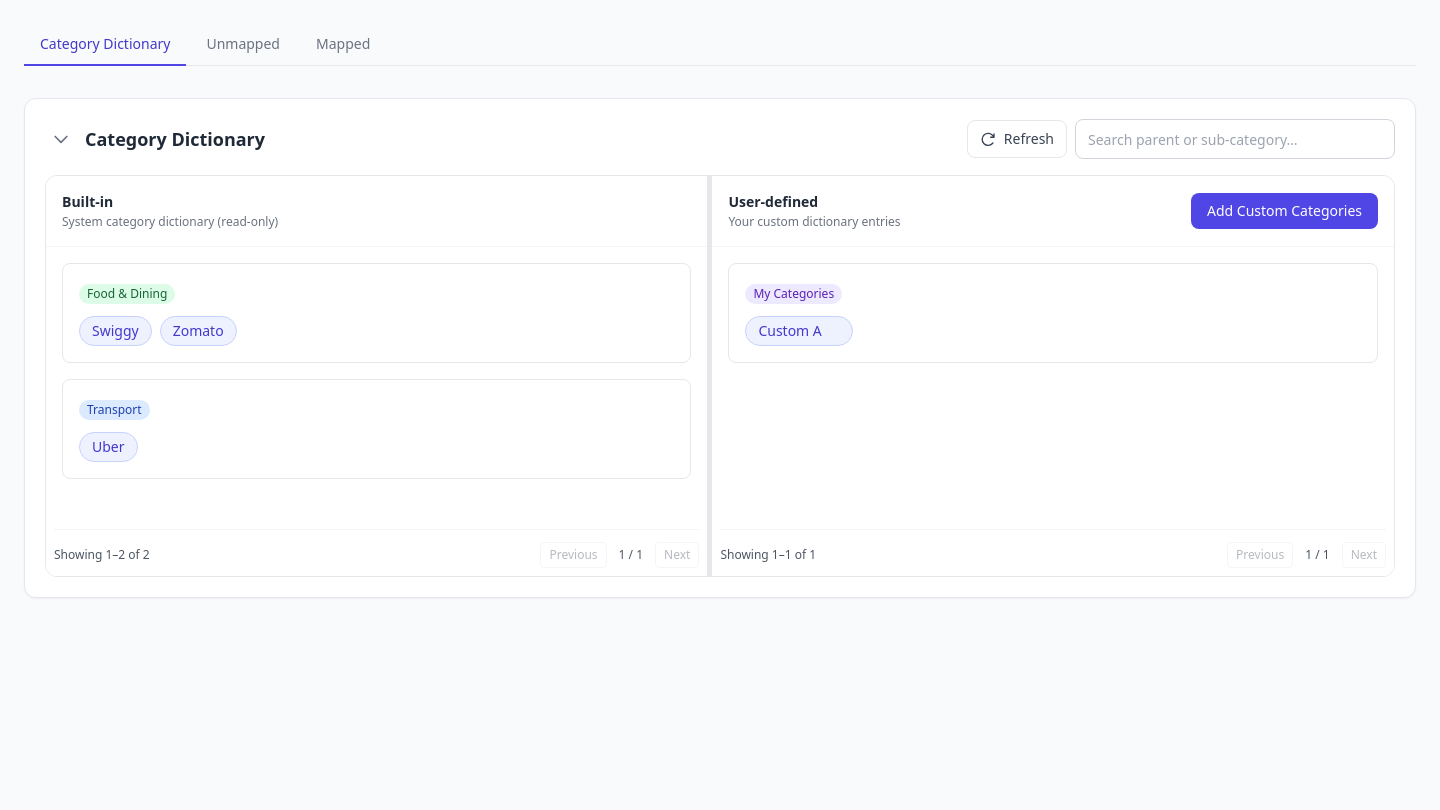
it: Categories page — Add sub-category form validation › shows validation error when both fields are empty and Save is clicked
Expected: the heading "Category Dictionary" is shown, 85,125 -> 265,153
Click the button "Add Custom Categories" at coordinates (1284, 211), box 1191,193 -> 1378,229
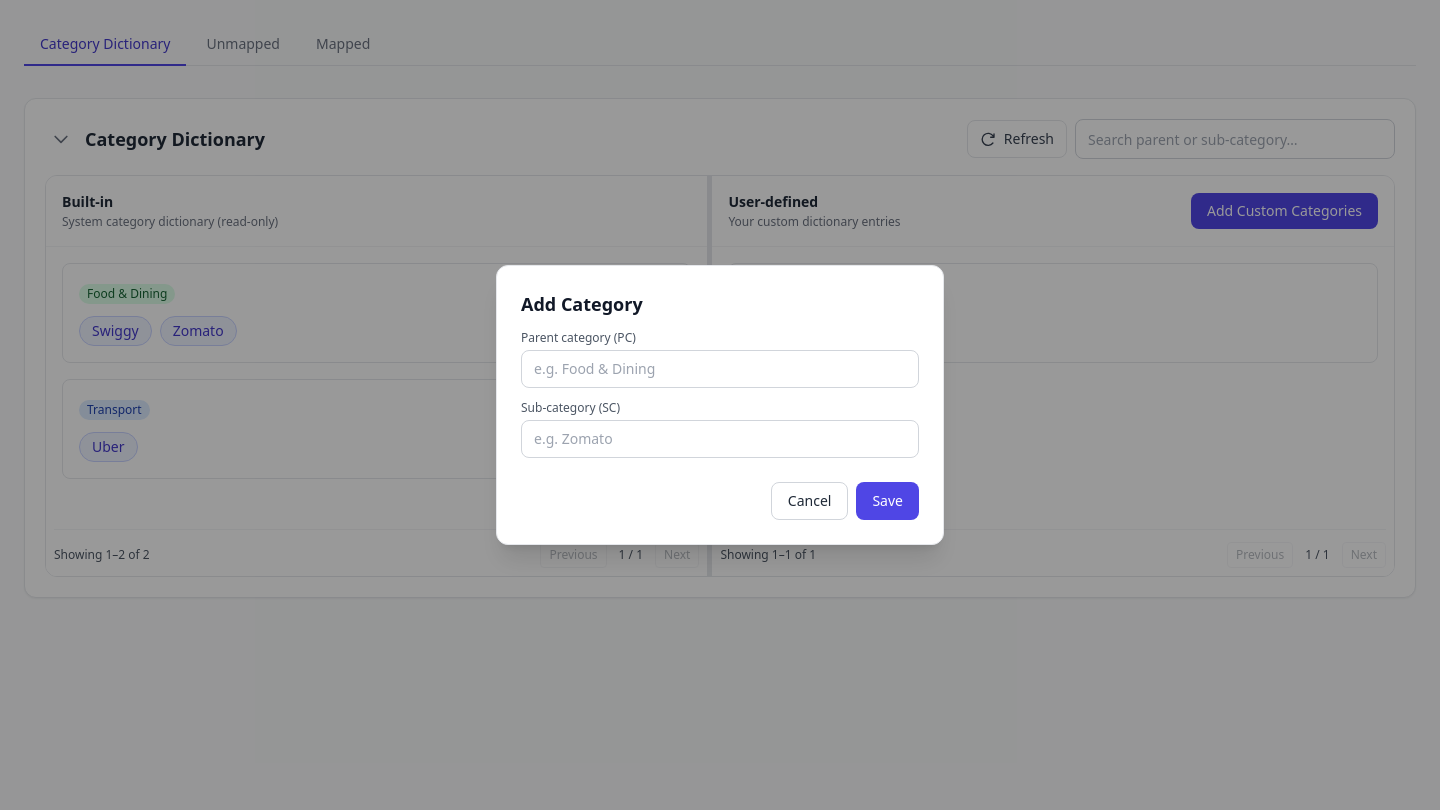
Click the button "Save" at coordinates (888, 501), box 856,482 -> 919,520
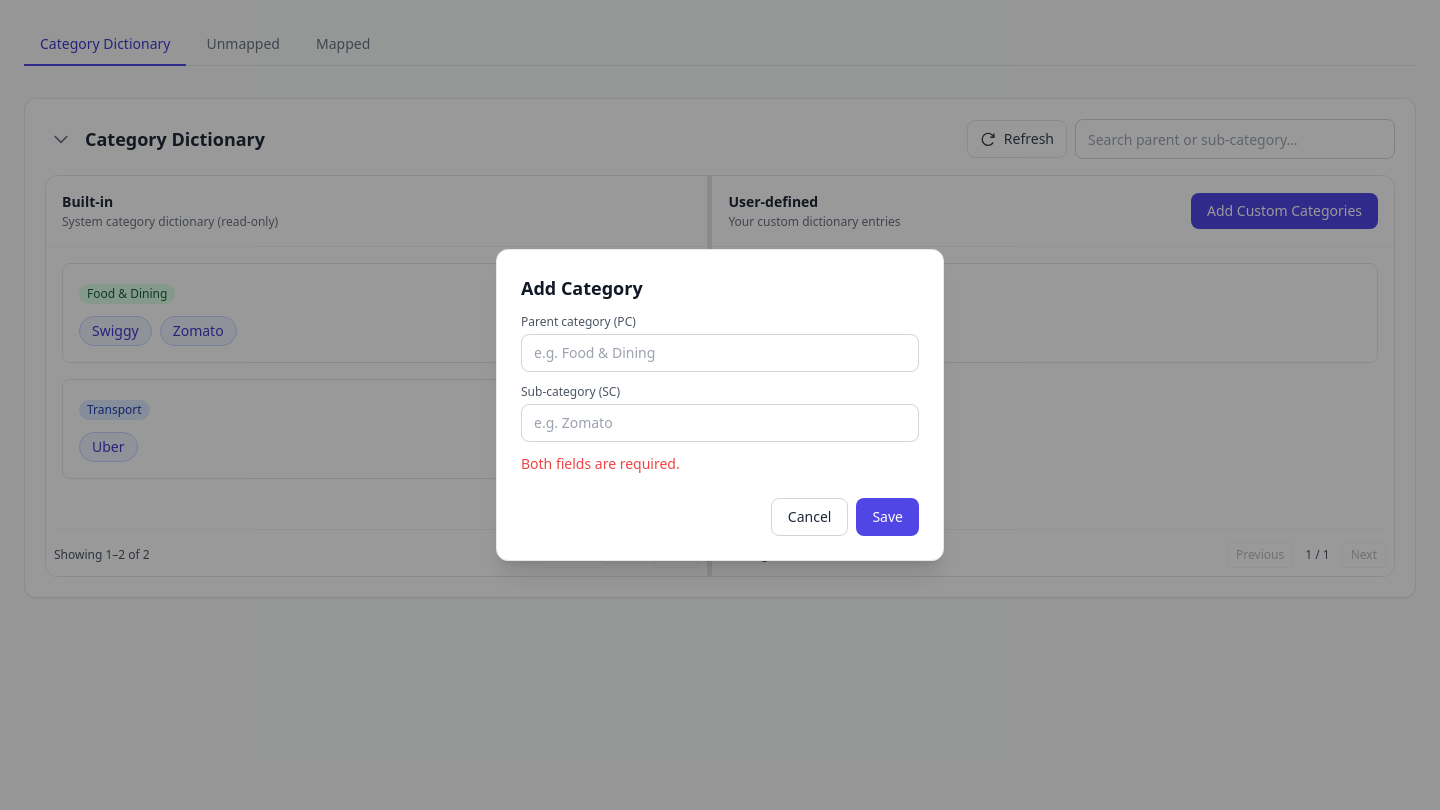
Expected: the text "Both fields are required." is shown, 521,454 -> 680,473
